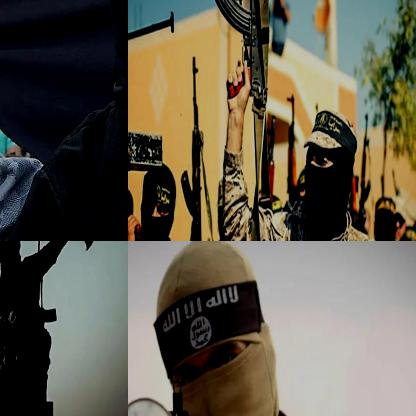rifle: (128, 0, 178, 240), (207, 0, 278, 107), (181, 52, 215, 240), (284, 86, 300, 223), (358, 113, 375, 240), (263, 101, 279, 217)
